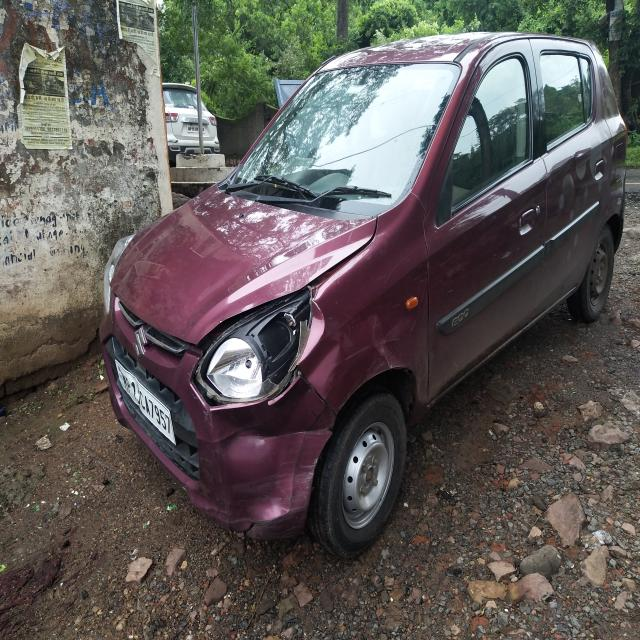damage: (213, 412, 330, 538), (242, 296, 308, 393), (296, 292, 334, 359), (366, 309, 395, 376), (497, 250, 518, 261)
